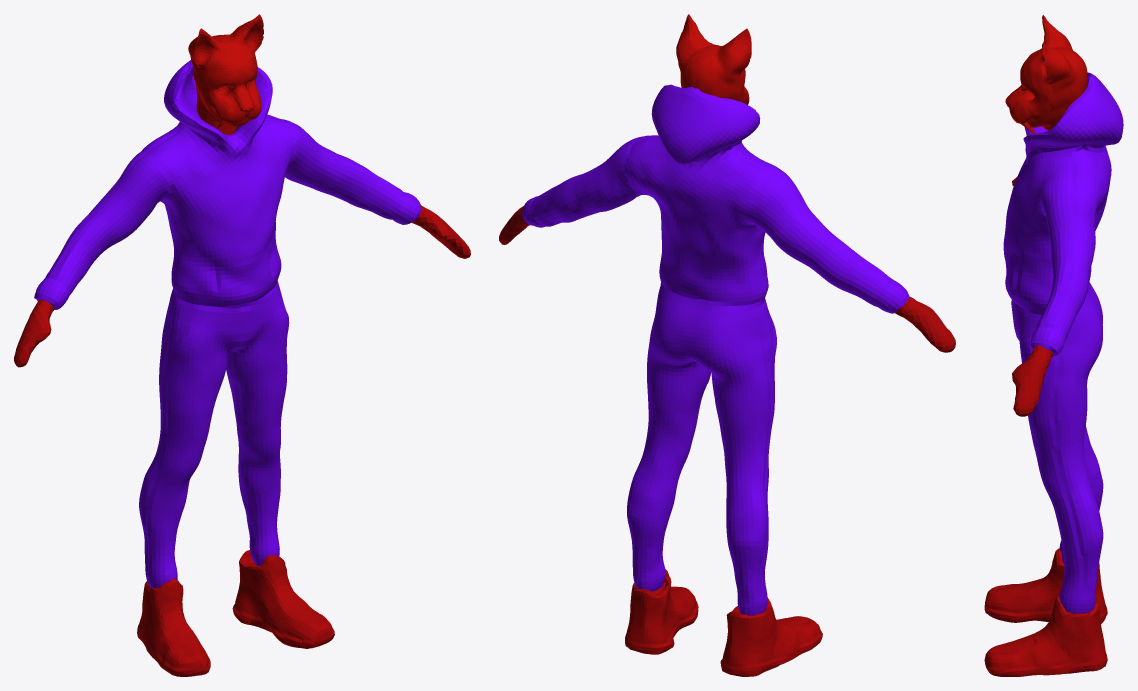
3 views of the same model, side by side, from view 1: azimuth 30°, elevation 25°; view 2: azimuth 150°, elevation 25°; view 3: azimuth 270°, elevation 25° (orthographic).
Parts seen in each view (by area): view 1: 5c410873a4c1f20a, башмак3D1, враг 2, башмак3D1.001; view 2: 5c410873a4c1f20a, башмак3D1, враг 2, башмак3D1.001; view 3: 5c410873a4c1f20a, башмак3D1, враг 2, башмак3D1.001.
Part boxes in pixels (x1,y1,x2,y2): 5c410873a4c1f20a: [34, 60, 420, 588]; башмак3D1: [137, 550, 334, 676]; враг 2: [188, 14, 263, 134]; башмак3D1.001: [14, 205, 470, 367]; 5c410873a4c1f20a: [522, 84, 909, 615]; башмак3D1: [625, 569, 822, 676]; враг 2: [676, 14, 751, 104]; башмак3D1.001: [499, 206, 955, 352]; 5c410873a4c1f20a: [1003, 72, 1123, 613]; башмак3D1: [984, 548, 1107, 676]; враг 2: [1005, 15, 1087, 133]; башмак3D1.001: [1012, 176, 1052, 416].
Size of the model in its own units: 1222 by 1600 by 329.
